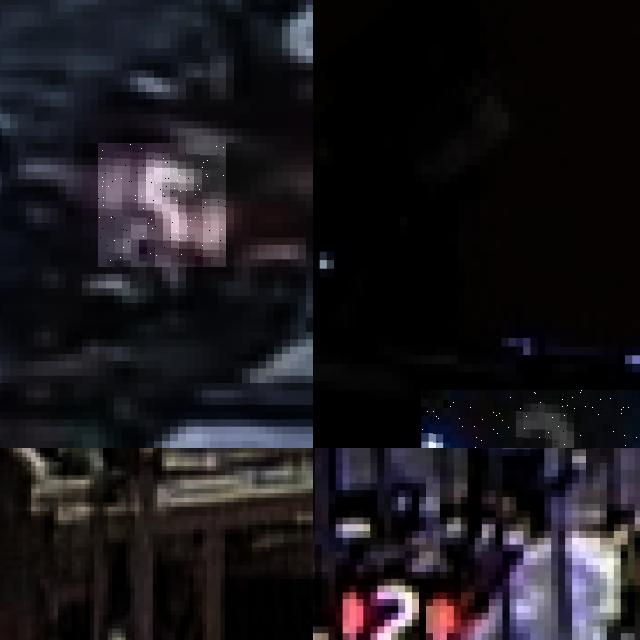B3: (421, 389, 640, 448)
R2: (328, 571, 453, 640)
R5: (98, 143, 226, 267)
